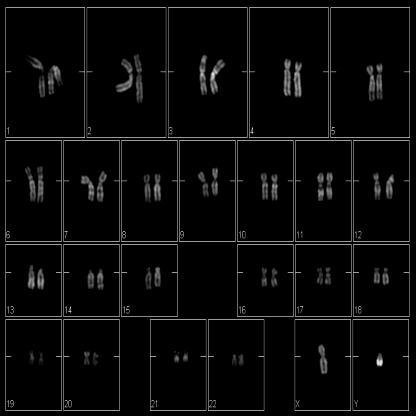1: (45, 46, 69, 104), (24, 46, 47, 104)
10: (270, 166, 278, 208), (260, 168, 268, 209)
11: (324, 165, 334, 209), (316, 165, 324, 209)
12: (371, 167, 385, 204), (382, 168, 396, 205)
13: (26, 258, 35, 294), (36, 258, 45, 294)
14: (84, 260, 96, 294), (96, 260, 106, 295)
15: (152, 258, 162, 294), (142, 259, 152, 294)
16: (258, 261, 270, 294), (268, 261, 280, 294)
17: (324, 261, 335, 290), (314, 261, 324, 291)
18: (372, 260, 381, 292), (380, 260, 389, 292)
19: (26, 344, 37, 370), (36, 343, 46, 370)
2: (115, 52, 134, 104), (132, 50, 148, 106)
20: (91, 344, 102, 373), (82, 344, 92, 373)
21: (172, 344, 182, 373), (182, 344, 192, 373)
22: (238, 344, 248, 376), (229, 344, 238, 376)
3: (208, 50, 226, 100), (198, 50, 208, 100)
4: (282, 52, 293, 103), (292, 52, 303, 103)
5: (365, 56, 376, 108), (376, 56, 386, 108)
6: (23, 162, 37, 206), (36, 162, 50, 206)
7: (74, 168, 96, 205), (95, 168, 110, 205)
8: (140, 168, 154, 208), (152, 168, 164, 208)
9: (196, 165, 211, 204), (210, 165, 224, 204)
X: (314, 338, 332, 381)
Y: (373, 346, 387, 374)
